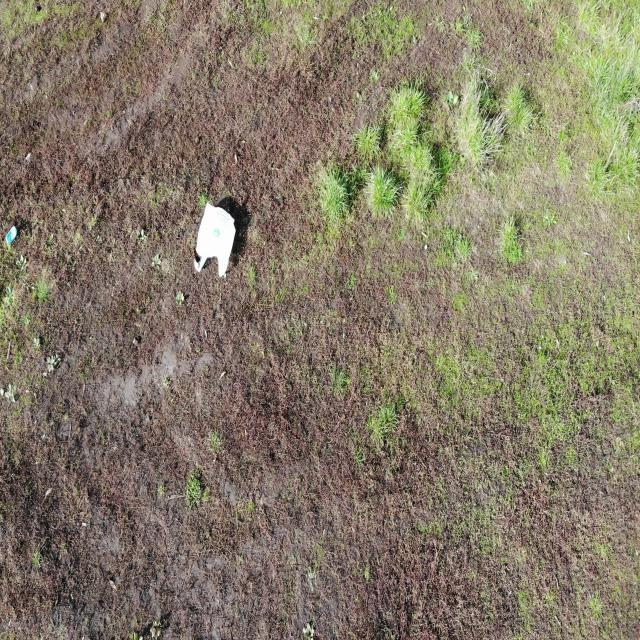rubbish: (192, 201, 238, 278), (4, 224, 19, 248)
